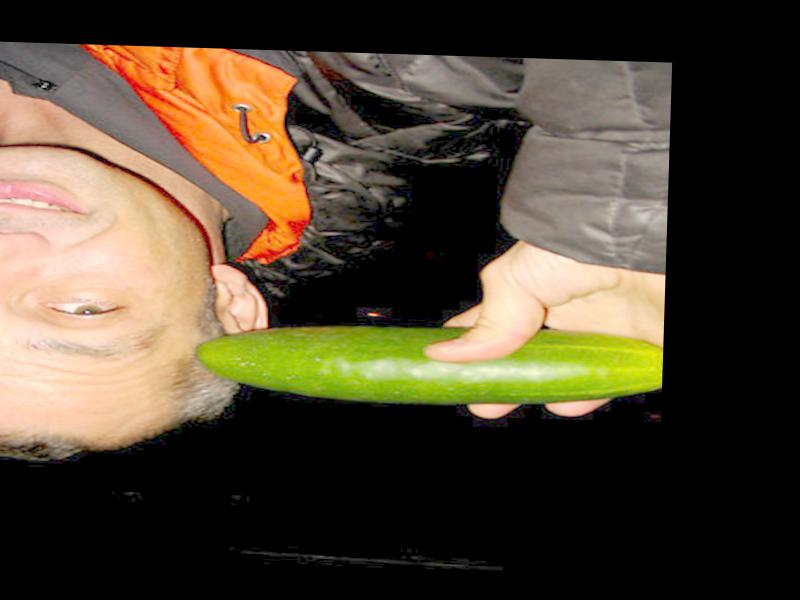Cucumber: (191, 319, 661, 408)
